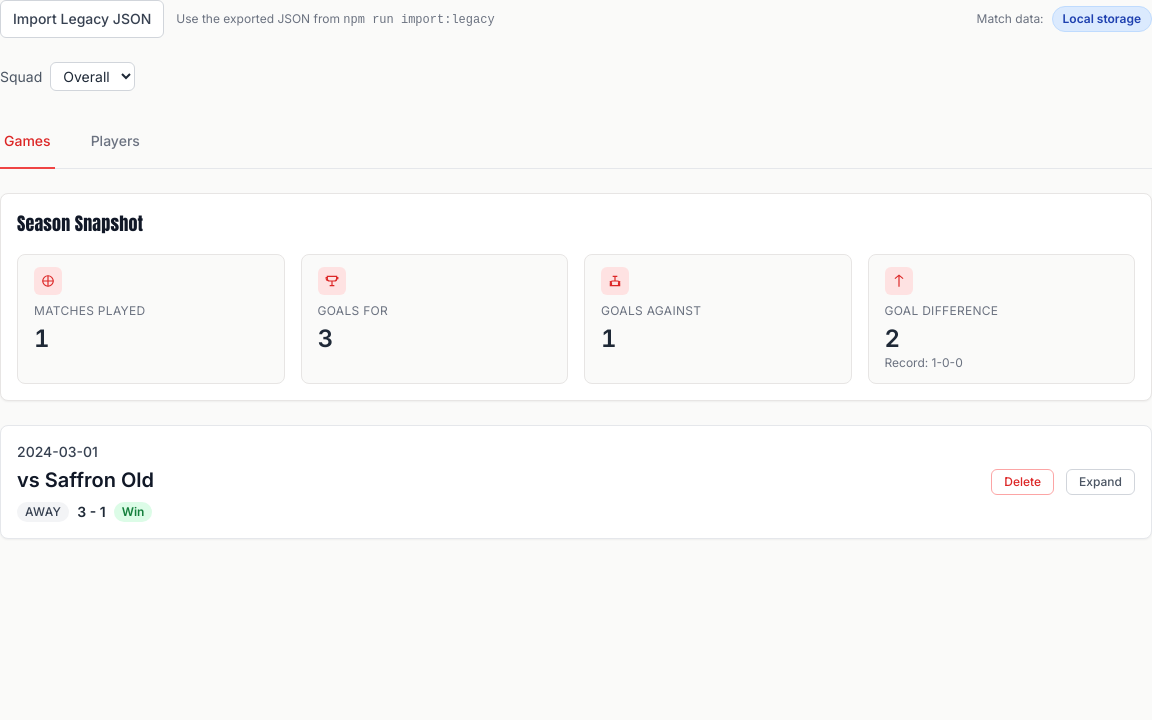
Test: SeasonStatsView › squads › previews the edited squad on the card before saving
Click the button "Expand" at (1101, 482), box [1066,469,1135,495]
(page scrolled)
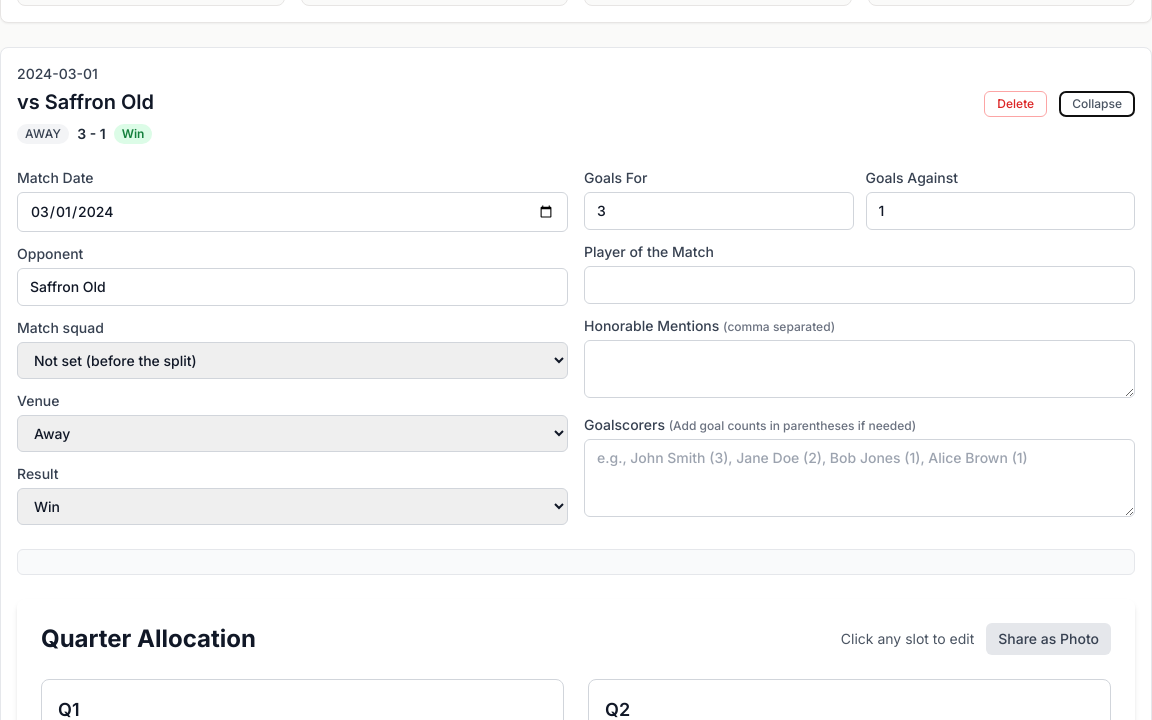
Select "Reds" in the dropdown labelled "Match squad" at (292, 360), box [17,342,568,379]
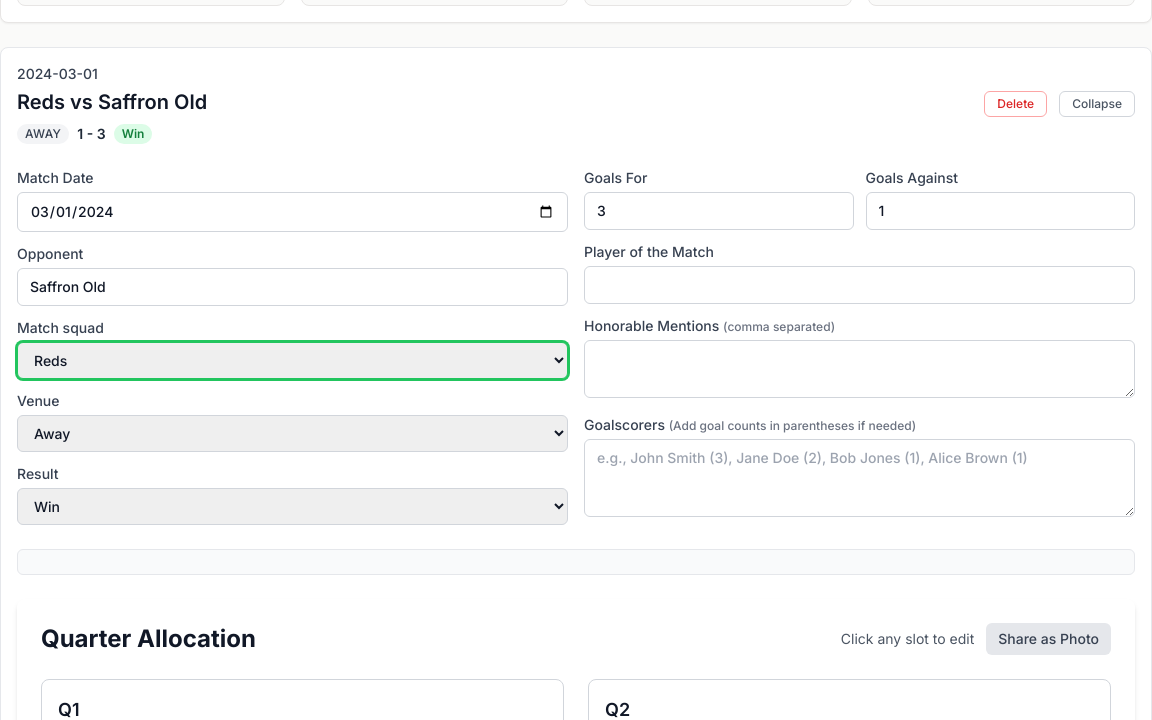
Now the text "Reds vs Saffron Old" is shown, box [17,88,207,116]
Now the text "1 - 3" is shown, box [77,124,106,144]
